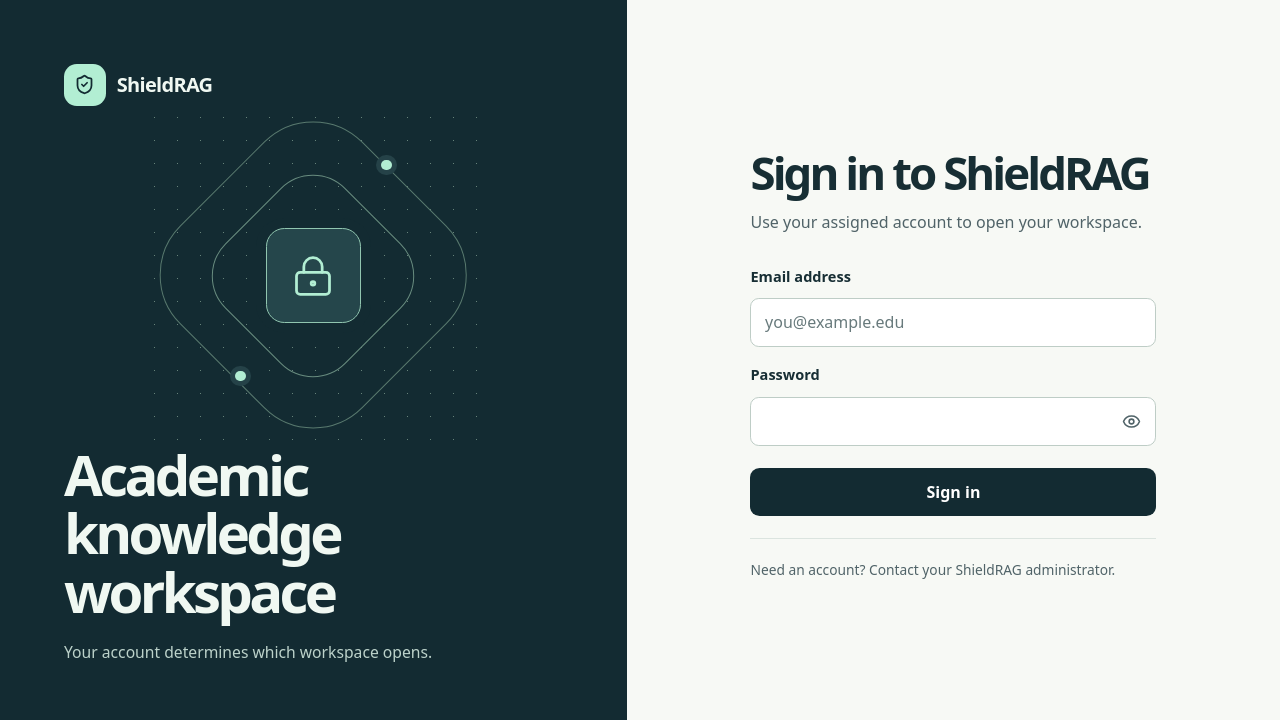
login and routing › sanitizes sign-in errors with status 400 and removes the password
This screenshot has width=1280, height=720.
Expected: the heading "Sign in to ShieldRAG" is shown, [750,147,1156,198]
In the field labelled "Email address": point(954, 322) [750,298,1156,347], type "student@example.test"
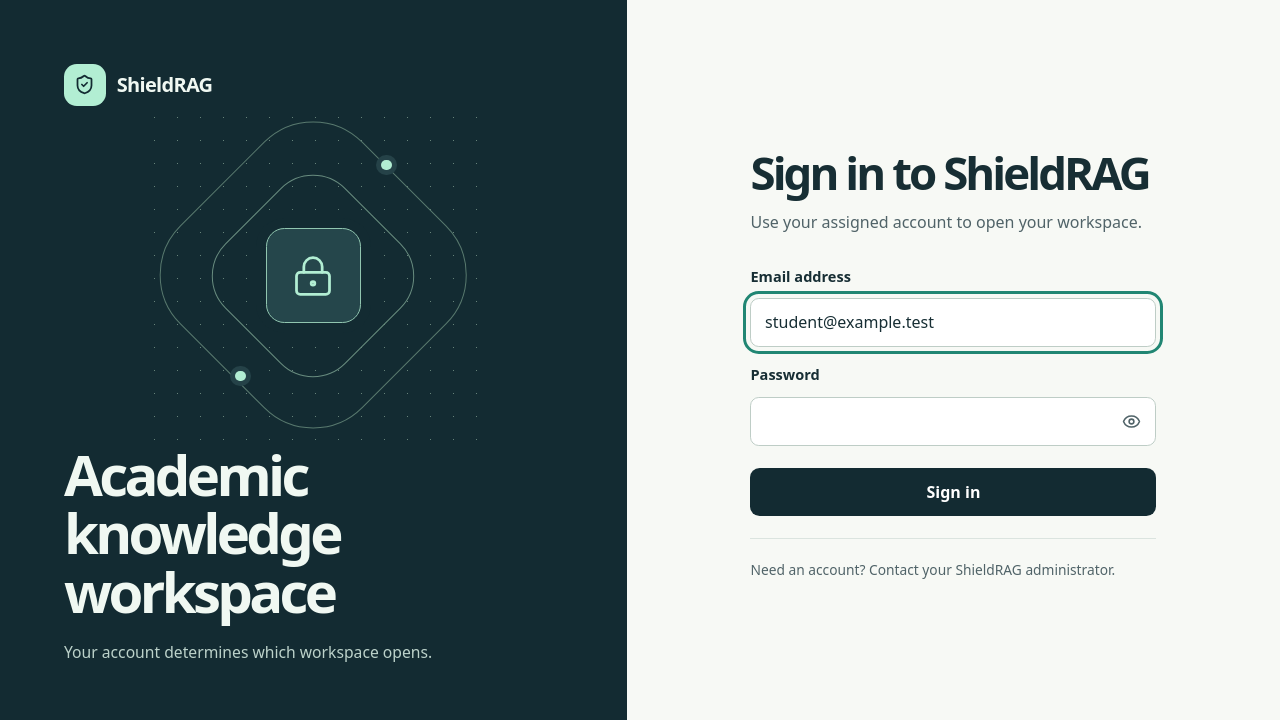
In the password field labelled "Password": point(954, 421) [750,397,1156,446], type "synthetic-password"
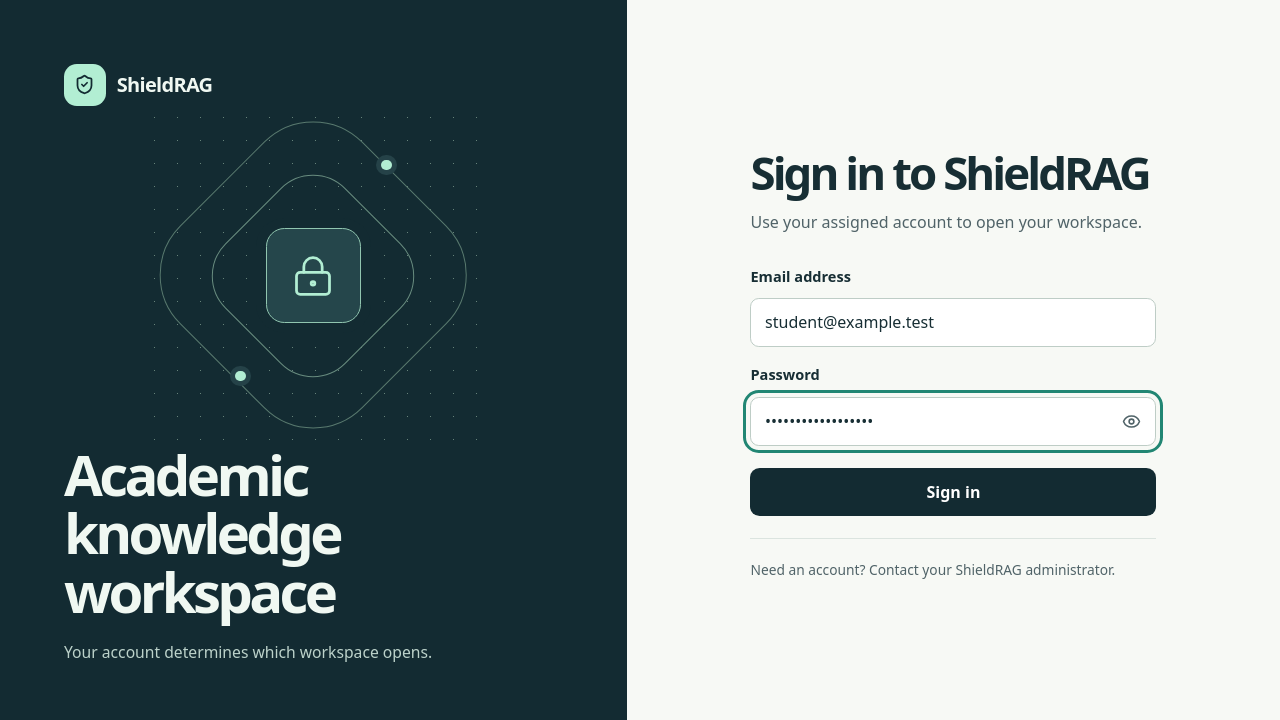
Click the button "Sign in": point(954, 492) [750,468,1156,516]
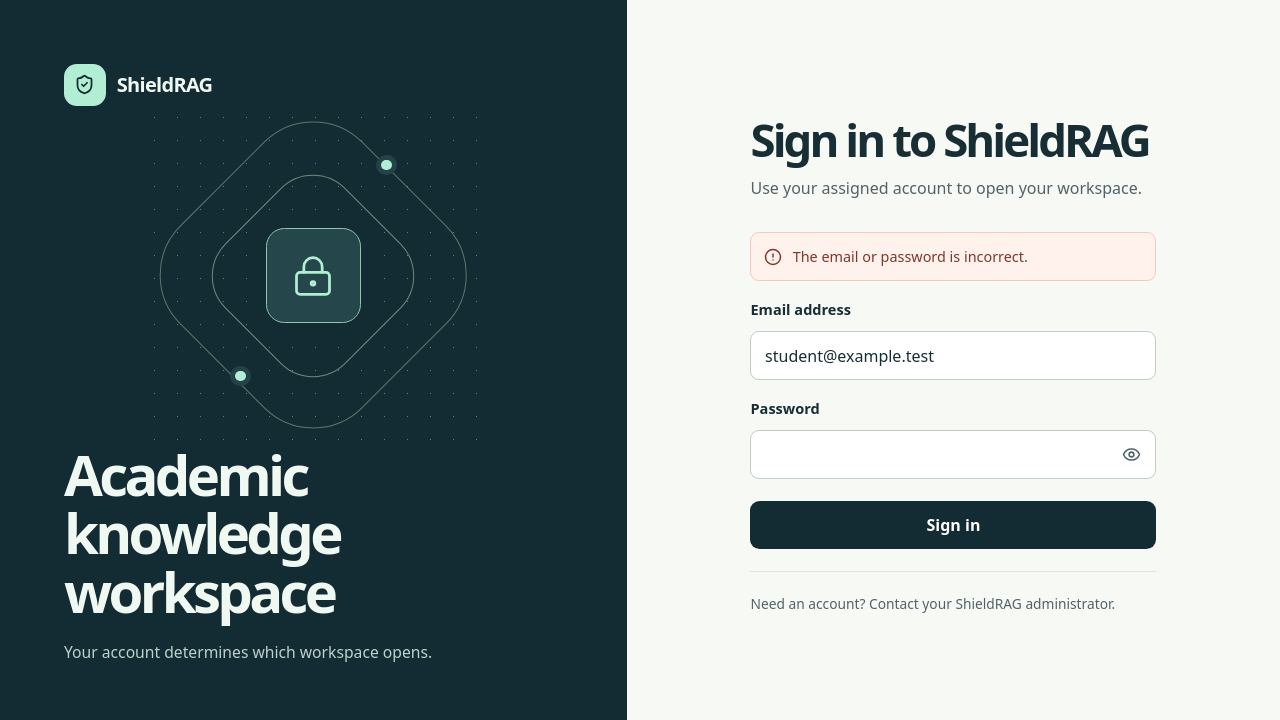
Now the message reads "The email or password is incorrect.", box [793,247,1028,266]
Now the password field labelled "Password" is empty, box [750,430,1156,479]
